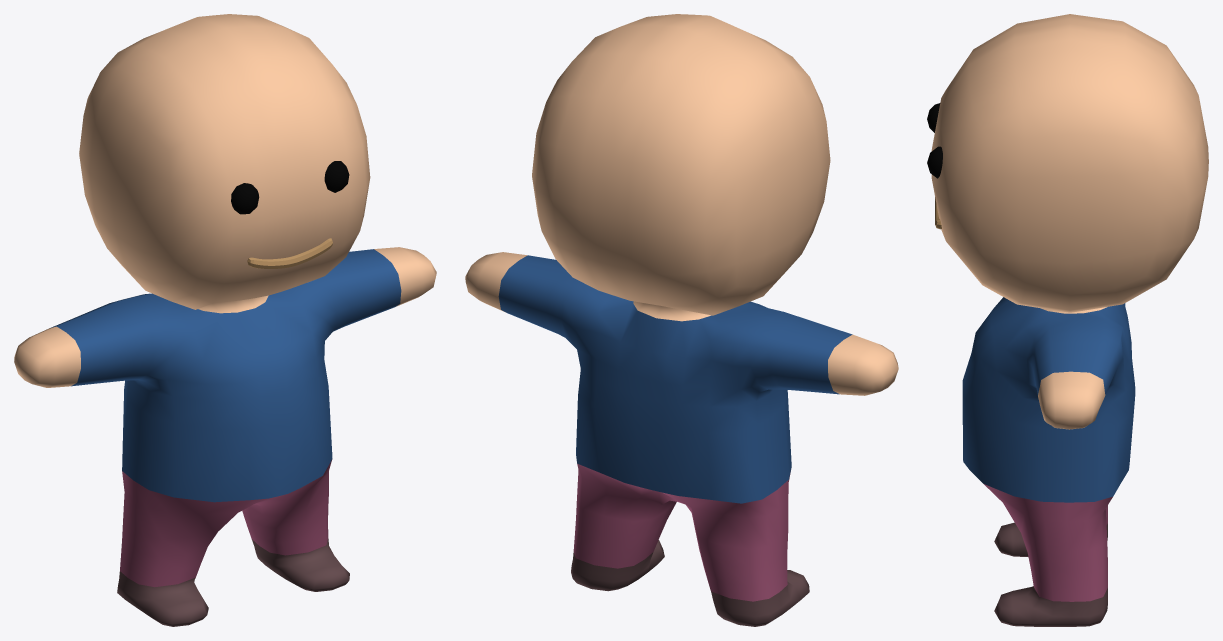
File: last_character (1).fbx
3 views of the same model, side by side, from view 1: azimuth 30°, elevation 25°; view 2: azimuth 150°, elevation 25°; view 3: azimuth 270°, elevation 25° (orthographic). The views are drawn at different scales.
Parts seen in each view (by area): view 1: last_stander; view 2: last_stander; view 3: last_stander.
Boxes of the visible parts, <box> form: last_stander: <box>14,14,436,626</box>; last_stander: <box>465,14,898,626</box>; last_stander: <box>927,14,1208,626</box>.
Bounding box in the file's own units: 100 × 130 × 59.67.
